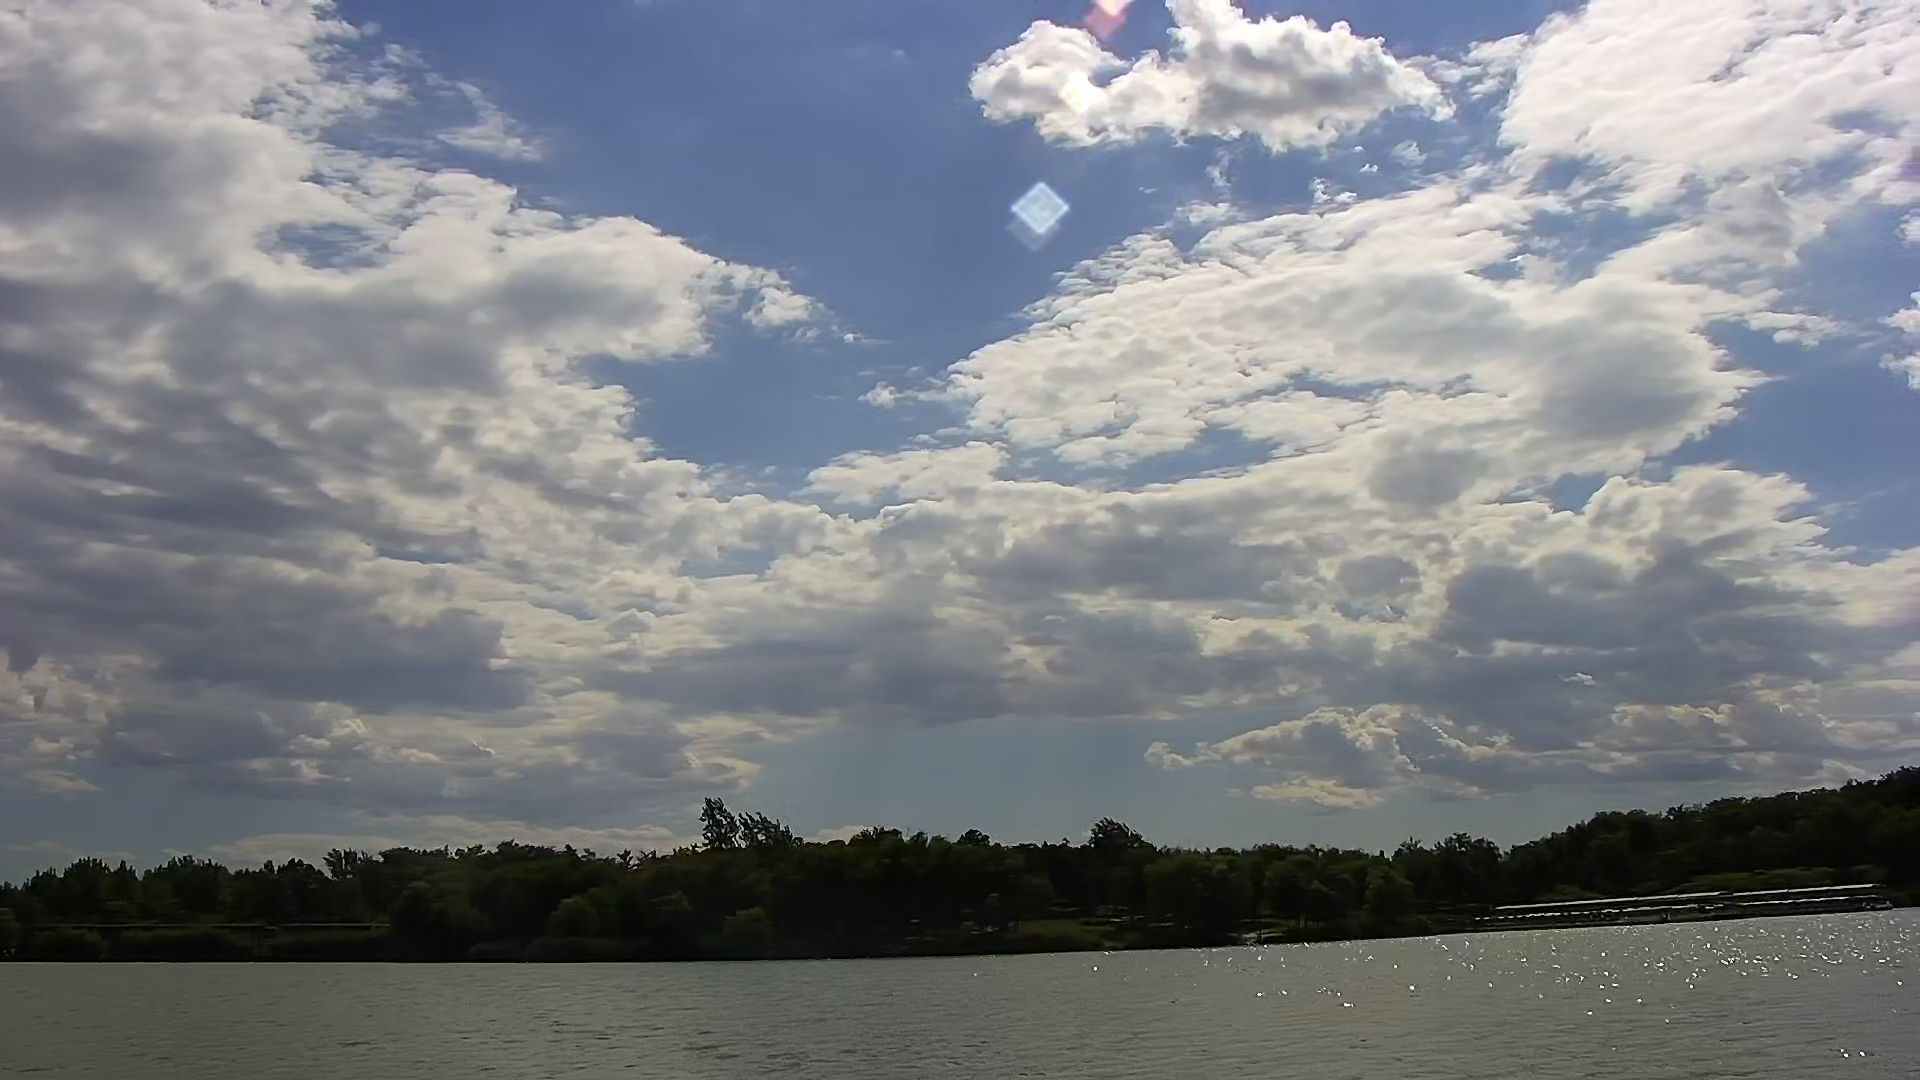harbor: (1470, 866, 1920, 942)
